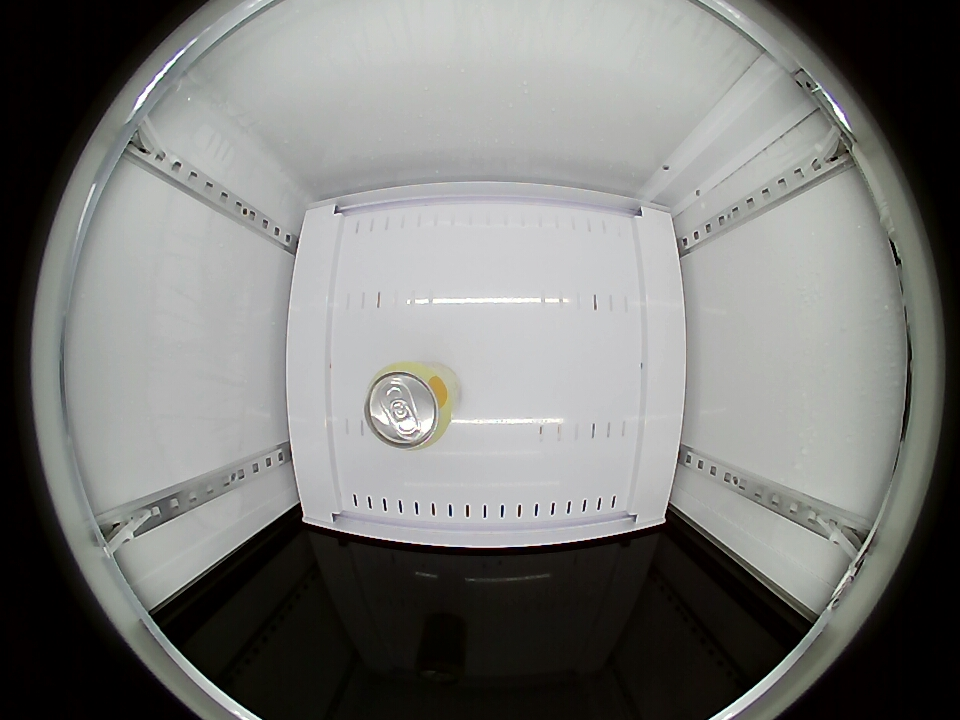mangguoxiaolao: (363, 362, 455, 450)
